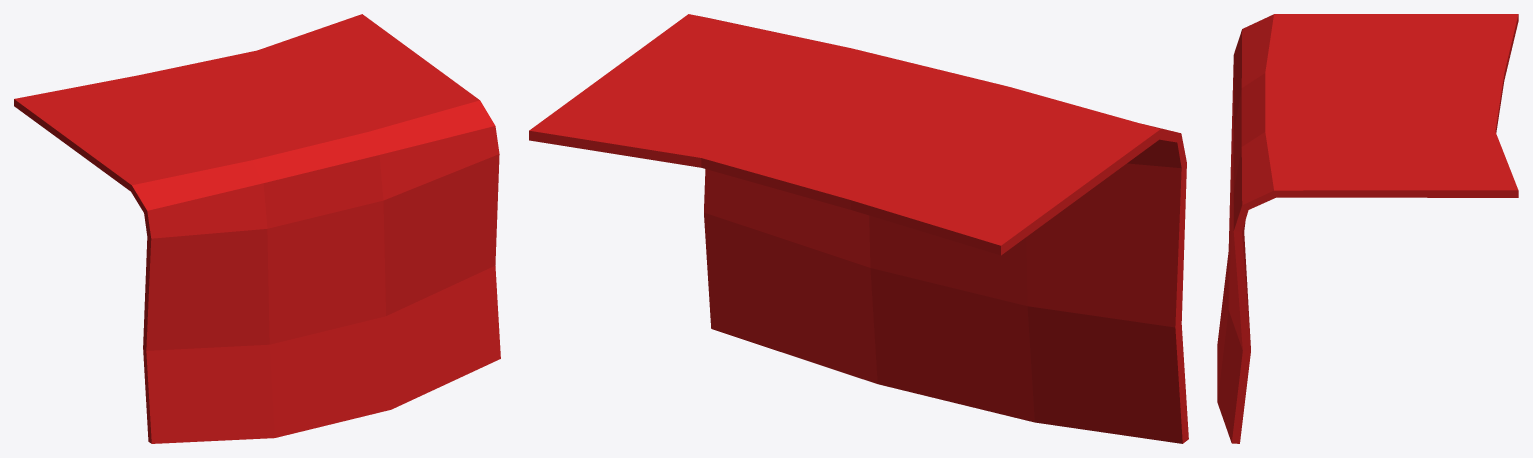
File: SM_cloth_table.FBX
The picture shows the model from 3 angles, left to right: view 1: azimuth 30°, elevation 25°; view 2: azimuth 150°, elevation 25°; view 3: azimuth 270°, elevation 25°; orthographic projection. The views are drawn at different scales.
Parts seen in each view (by area): view 1: Line040; view 2: Line040; view 3: Line040.
Boxes of the visible parts, x1,y1,x2,y2 form: Line040: (14, 14, 500, 443); Line040: (529, 14, 1188, 443); Line040: (1217, 14, 1518, 443).
Bounding box in the file's own units: 99.41 × 71.27 × 71.52.
